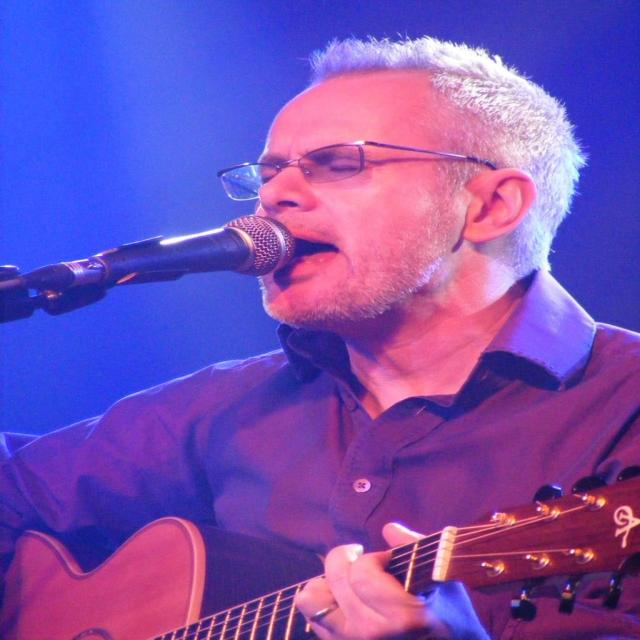Face: (218, 62, 480, 341)
